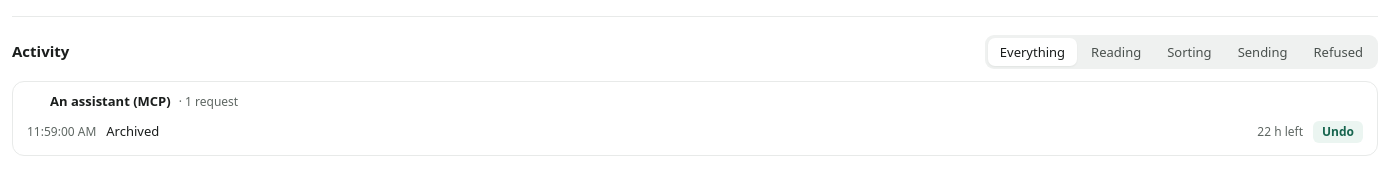
undoing from the row › says how much could not be put back when only part came back
Click the button "Undo".
click(1338, 132)  # box [1313, 121, 1363, 143]
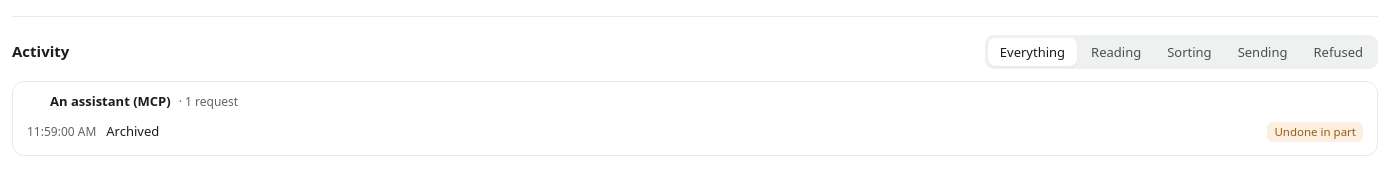
Now the text "Undone in part" is shown, box [1267, 122, 1363, 142]
